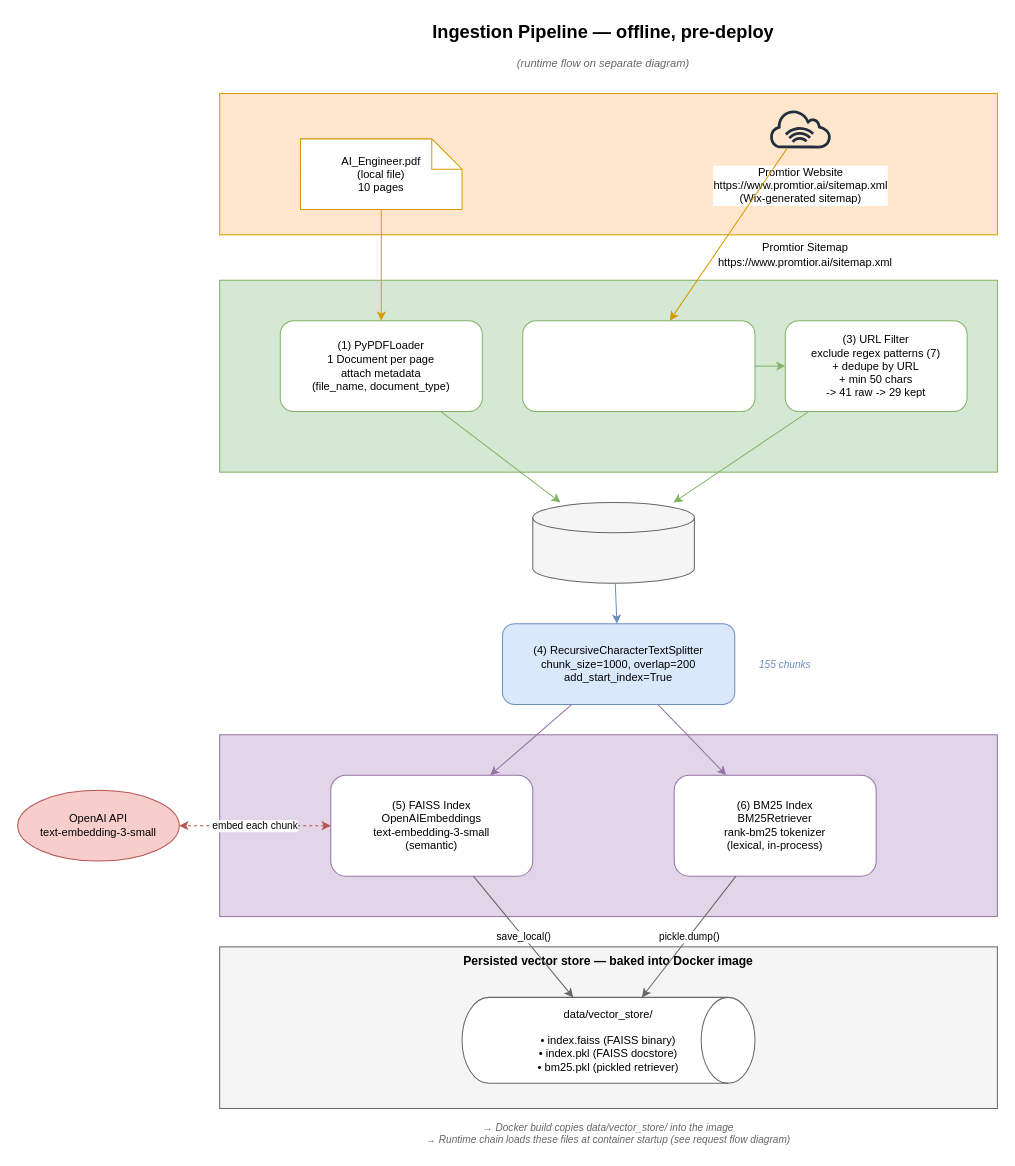
The diagram is 1015 pixels wide and 1166 high, and some of its shapes have lost their labels. The shapes that lost their labels are listed below. From the top down, each one's box as (x1, y1, x2, y2) in pixels, then its label:
(219, 92, 997, 235): Data Sources
(219, 279, 997, 472): Document Loaders (langchain_community)
(522, 320, 755, 412): (2) SitemapLoader BeautifulSoup parser strips non-content tags rate: 2 req/sec
(532, 501, 694, 583): Combined corpus ~39 Documents ~115k chars
(219, 734, 997, 917): Index Building
